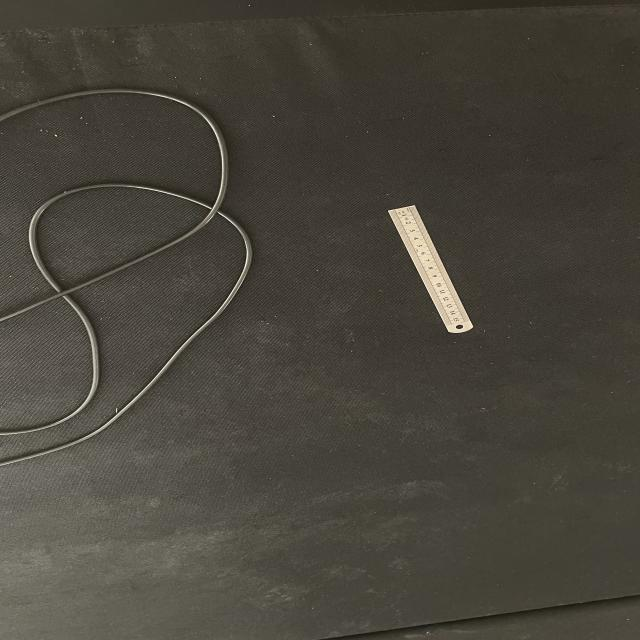ruler: (388, 206, 473, 334)
